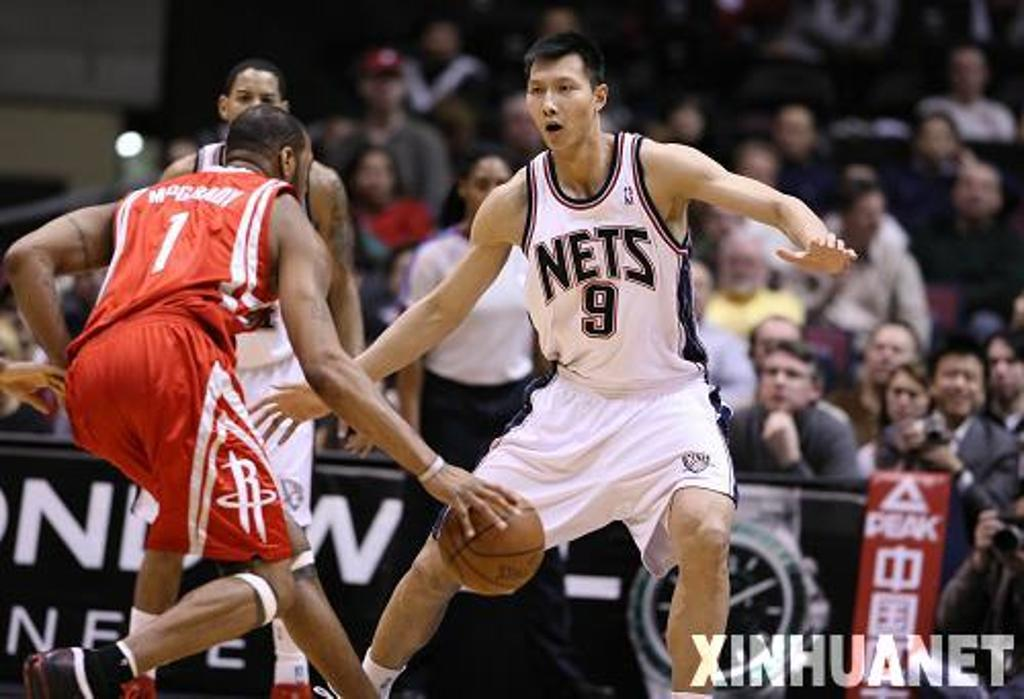face: (528, 58, 594, 151), (229, 72, 282, 139), (762, 356, 810, 413), (468, 163, 514, 220), (937, 355, 981, 414), (868, 326, 913, 381), (887, 370, 929, 424), (755, 325, 800, 374), (722, 241, 760, 296), (989, 341, 1024, 399), (359, 154, 392, 198), (367, 66, 402, 107), (677, 267, 706, 315), (964, 171, 994, 216), (781, 110, 811, 151), (855, 197, 883, 239), (707, 202, 735, 241), (958, 53, 983, 89), (928, 118, 951, 152)
